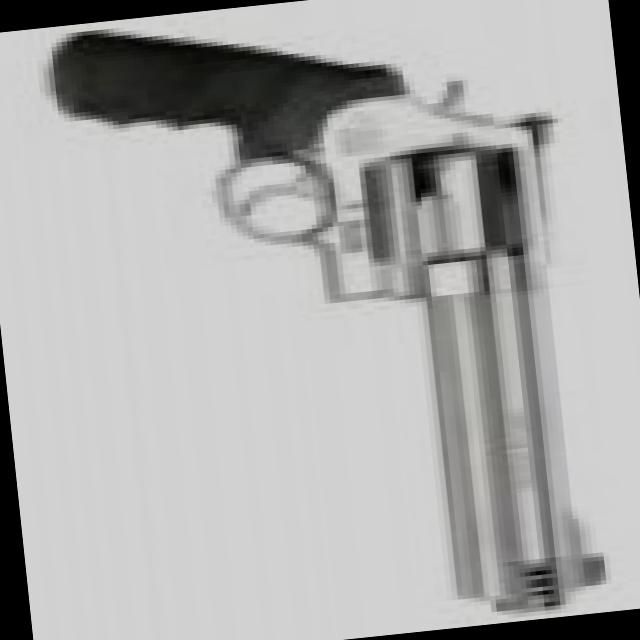handgun: (43, 0, 612, 639)
